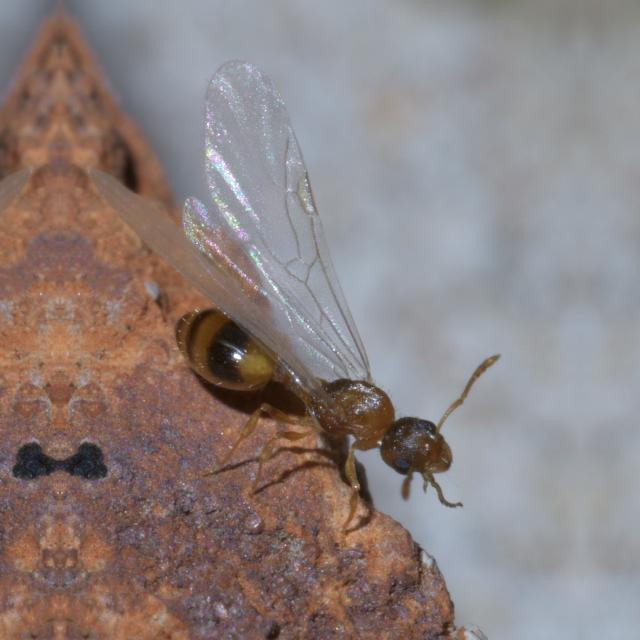Temnothorax: (147, 79, 491, 541)
